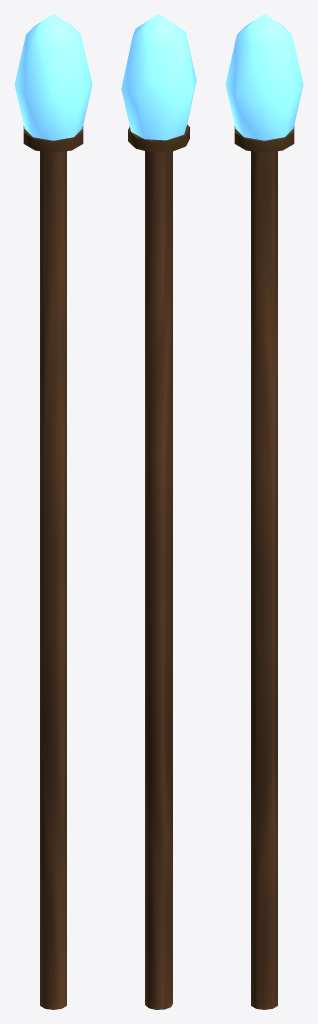
Rendered from Hold_Staff.fbx.
3 renders of one model, left to right at view 1: azimuth 90°, elevation 25°; view 2: azimuth 150°, elevation 25°; view 3: azimuth 270°, elevation 25°, orthographic.
Parts seen in each view (by area): view 1: Hold_Staff; view 2: Hold_Staff; view 3: Hold_Staff.
Part boxes in pixels (left/top/right/bottom): Hold_Staff: left=14, top=14, right=92, bottom=1009; Hold_Staff: left=121, top=14, right=196, bottom=1009; Hold_Staff: left=225, top=14, right=303, bottom=1009.
Size of the model in its own units: 0.1 by 1.4 by 0.1.
2 materials, 1 textured.
